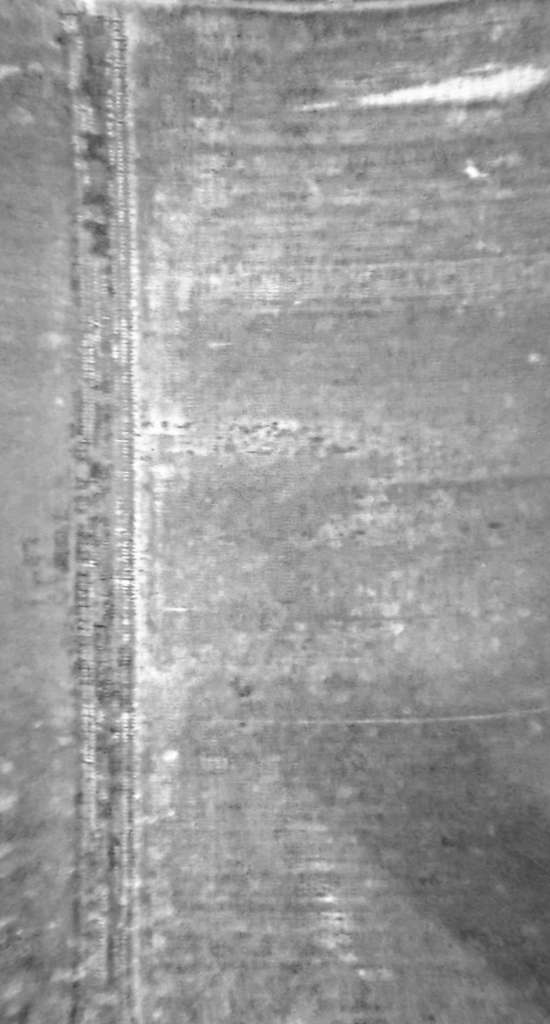splice: (54, 3, 142, 1024)
